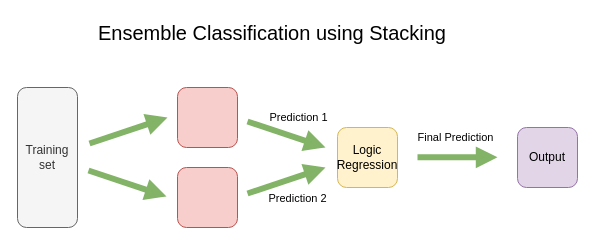
The diagram is 595 pixels wide and 245 high, and some of its shapes have lost their labels. Here are the shapes that lost their labels. From the top down, the box of each, then its label:
(176, 86, 238, 148): Random Forest
(176, 166, 238, 228): Base Model 2 (to be choosen)
